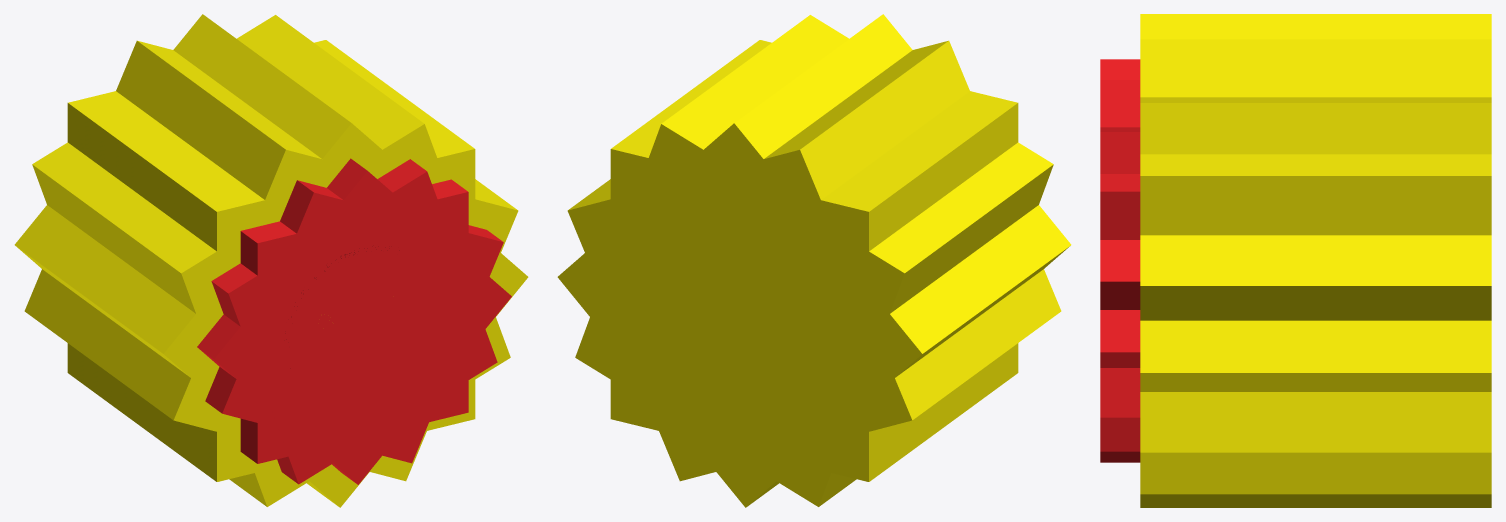
Rendered from Falsealarm.fbx.
3 renders of one model, left to right at view 1: azimuth 30°, elevation 25°; view 2: azimuth 150°, elevation 25°; view 3: azimuth 270°, elevation 25°, orthographic. The views are drawn at different scales.
Visible parts, largest first — view 1: node_id68 (×4), root (×4); view 2: node_id68 (×4); view 3: node_id68 (×4), root (×4).
Part boxes in pixels (bbox=[...]): node_id68 (×4): bbox=[14, 14, 528, 507]; root (×4): bbox=[197, 158, 511, 484]; node_id68 (×4): bbox=[557, 14, 1071, 507]; node_id68 (×4): bbox=[1140, 14, 1491, 507]; root (×4): bbox=[1100, 59, 1140, 462].
Size of the model in its own units: 0.2041 by 0.2041 by 0.1608.
8 materials, 8 textured.
